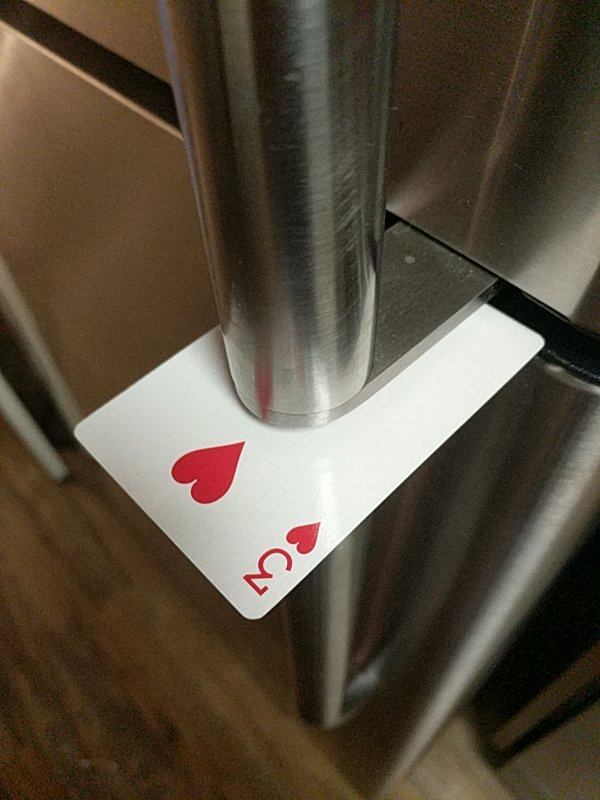Hearts: (71, 261, 550, 625)
